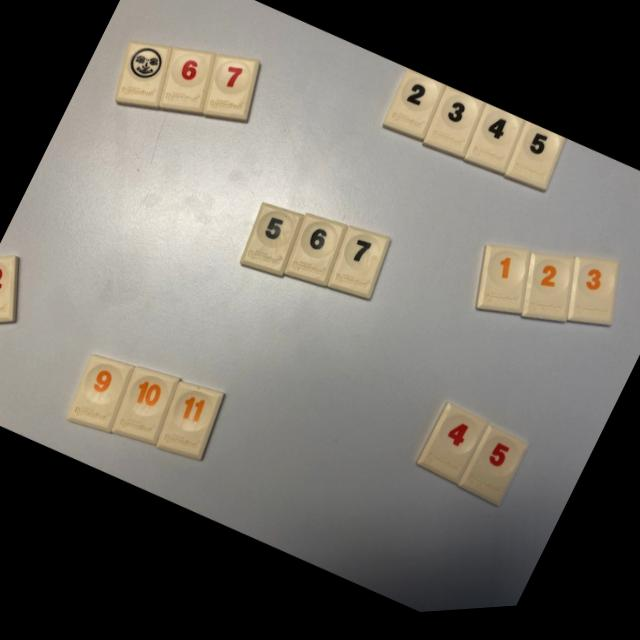black_2: (383, 74, 446, 146)
black_3: (423, 93, 484, 165)
black_4: (463, 110, 524, 181)
black_5: (240, 206, 304, 280), (504, 129, 566, 199)
black_6: (284, 218, 347, 291)
black_7: (327, 231, 390, 304)
joker: (115, 43, 172, 109)
orange_1: (476, 252, 530, 321)
orange_10: (111, 369, 179, 447)
orange_11: (156, 384, 223, 463)
orange_2: (522, 260, 573, 329)
orange_3: (568, 266, 618, 333)
orange_9: (67, 356, 134, 434)
red_12: (0, 256, 18, 322)
red_4: (416, 409, 488, 491)
red_5: (458, 433, 528, 514)
red_6: (159, 51, 215, 116)
red_7: (203, 58, 259, 124)
